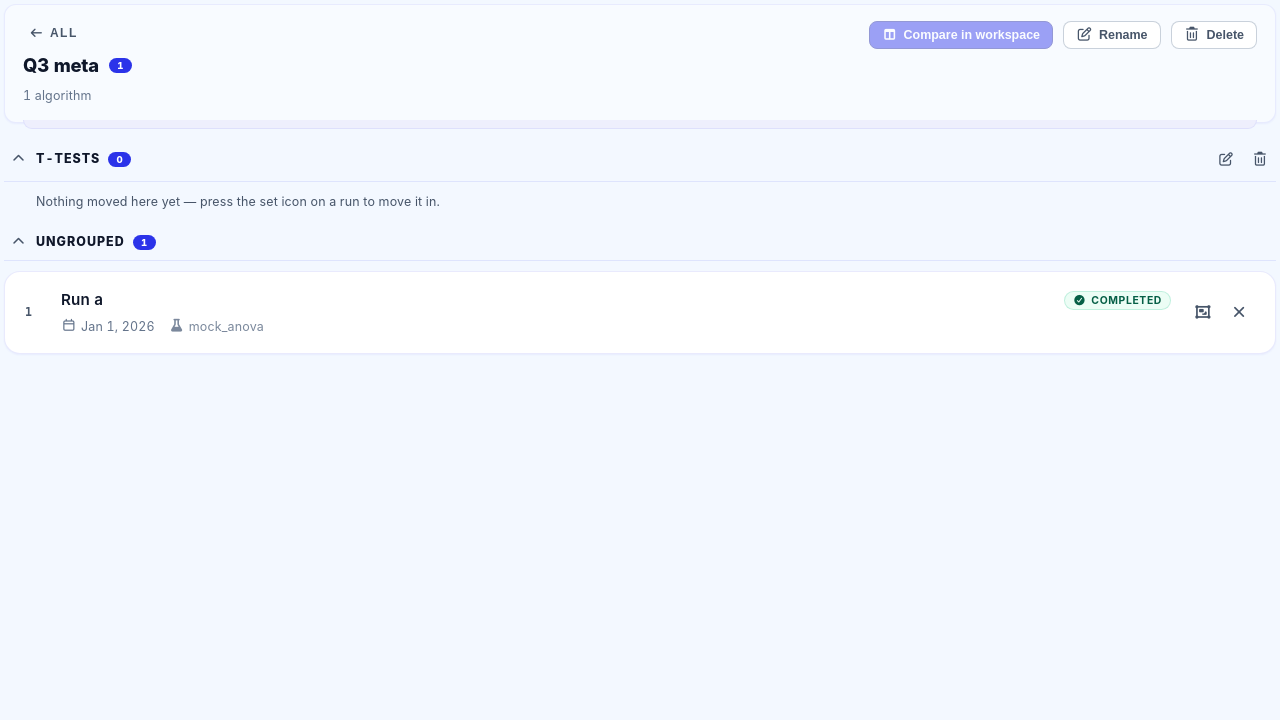
Test: ExperimentFolderComponent › sets › refuses a set name a sibling already took
Click the 3rd button with class "icon-btn" at (1203, 312), box [1187,296,1219,328]
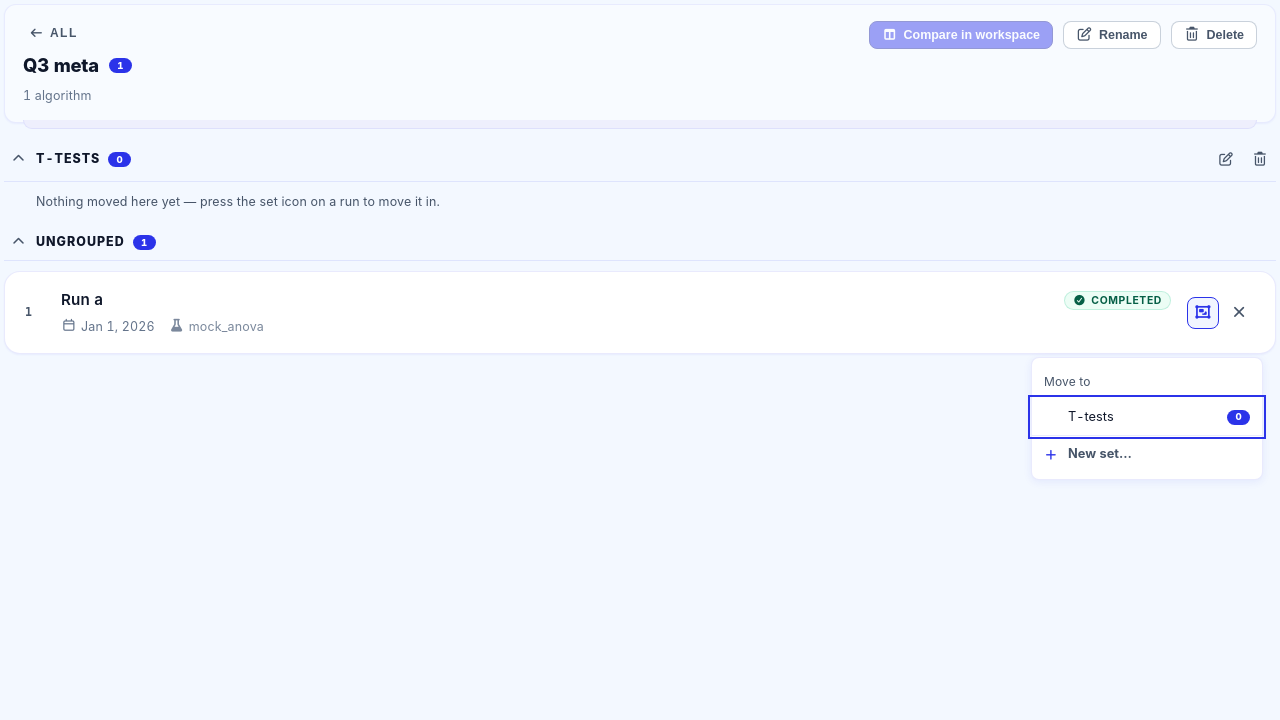
Click the menu item with class "set-menu__item--new" at (1147, 454), box [1032,435,1262,473]
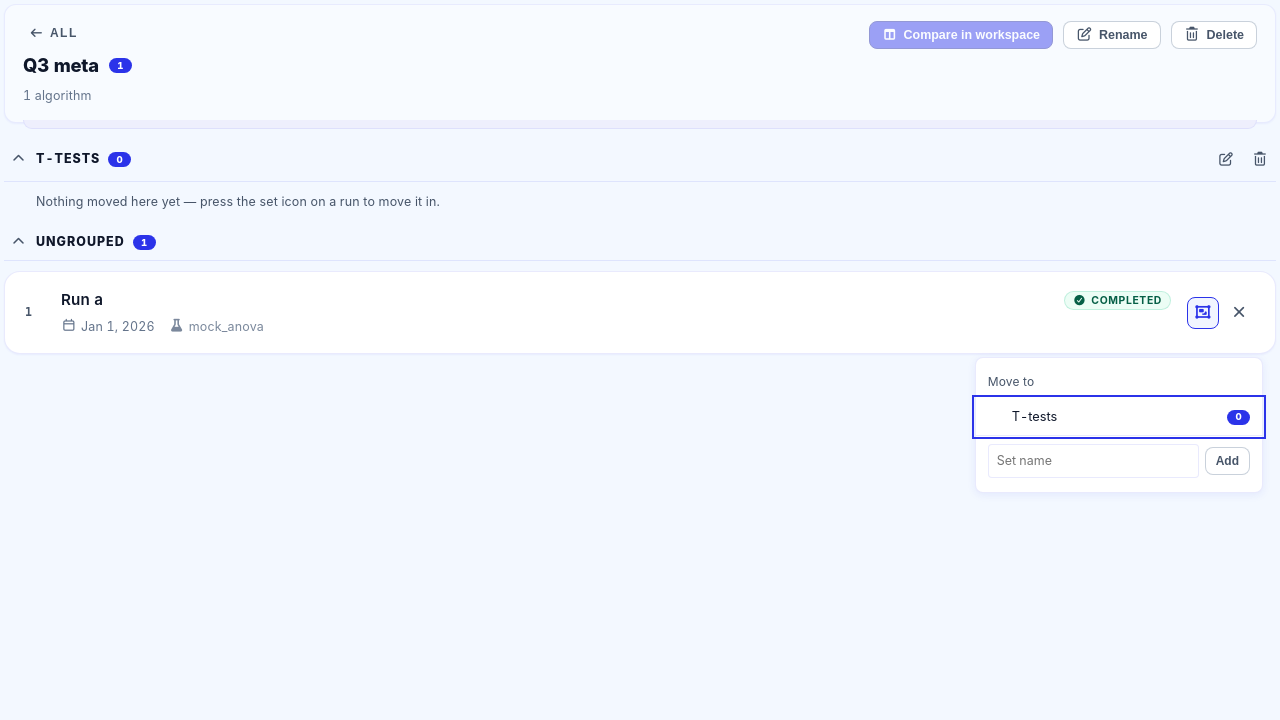
Type "t-tests" into the field with class "set-menu__input" at (1093, 461), box [988,444,1199,478]
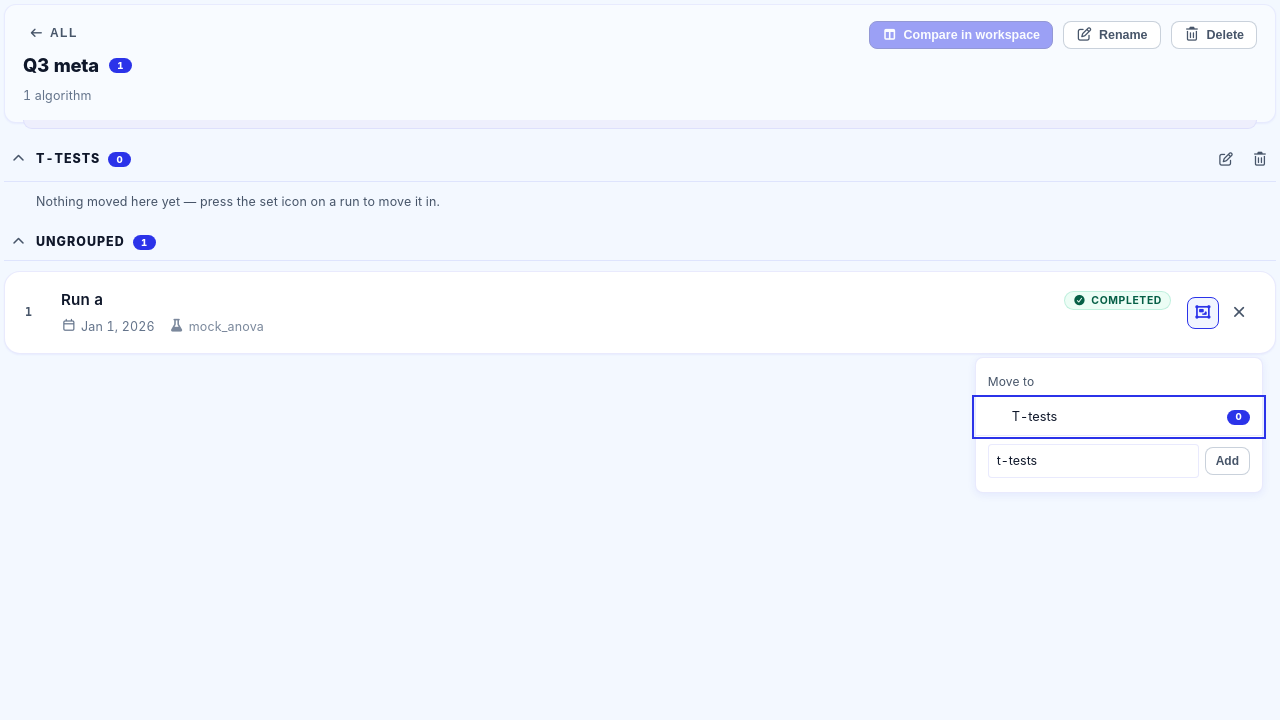
Click the button with class "set-menu__form-action" at (1227, 461), box [1205,447,1250,475]
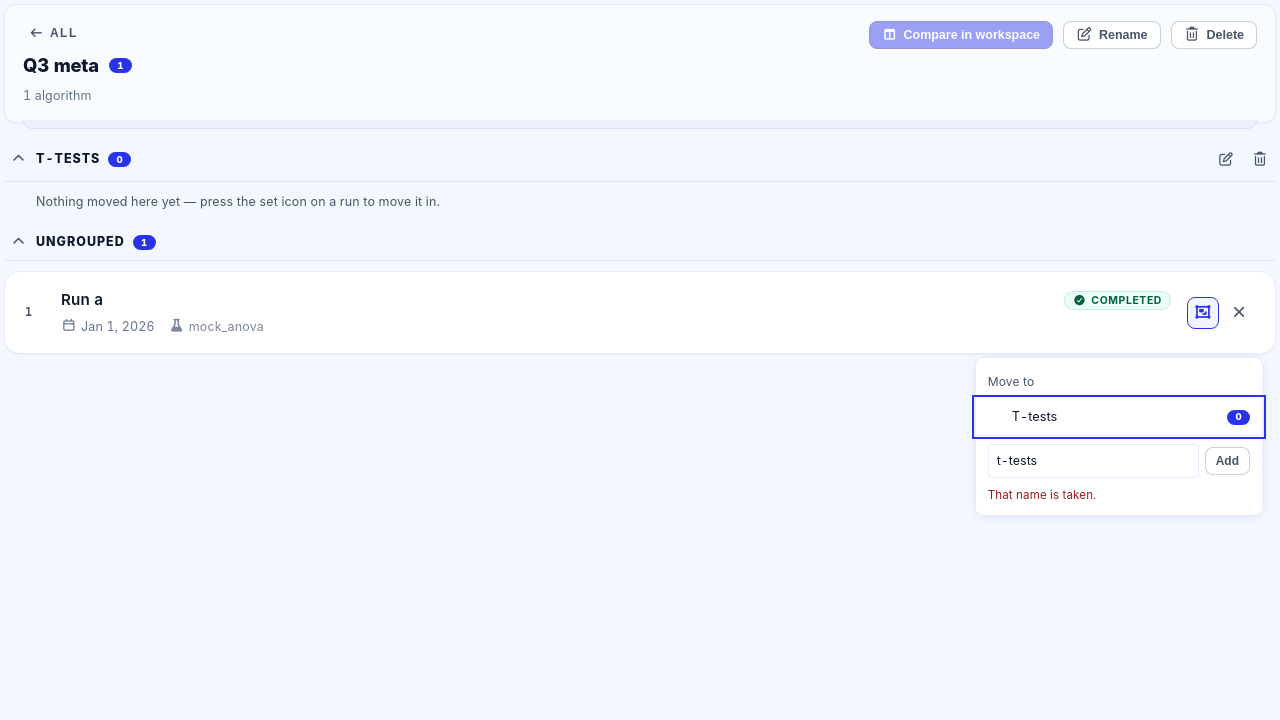
Check: the text with class "set-menu__error" shows "taken", box [988,488,1096,502]
